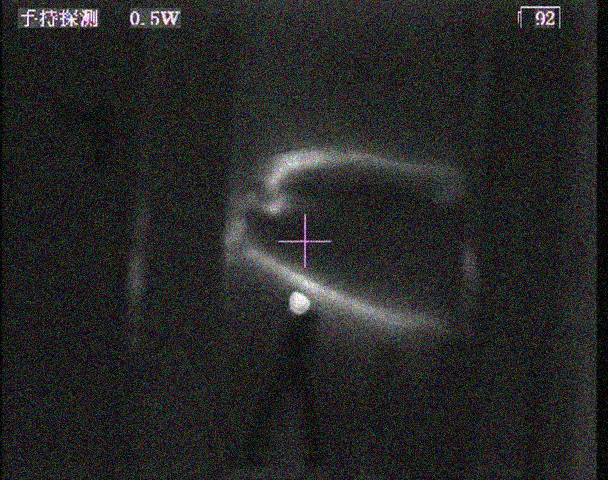my: (287, 290, 313, 316)
